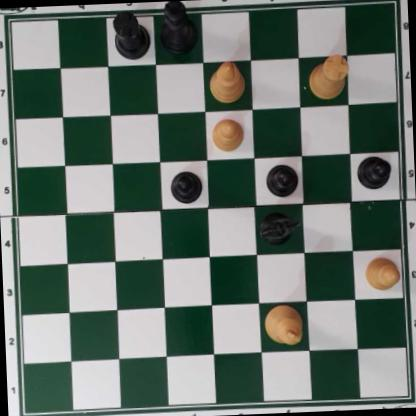black-king: (158, 1, 200, 53)
black-knight: (259, 208, 303, 247)
black-pawn: (168, 168, 204, 205), (355, 154, 391, 190), (265, 161, 300, 198)
black-rook: (110, 9, 153, 61)
white-bishop: (208, 60, 246, 103)
white-king: (262, 302, 303, 349)
white-pawn: (362, 255, 401, 293), (209, 115, 245, 153)
white-rook: (307, 53, 352, 100)
